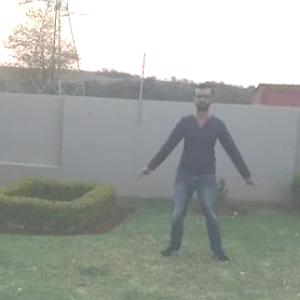land: (142, 72, 269, 284)
